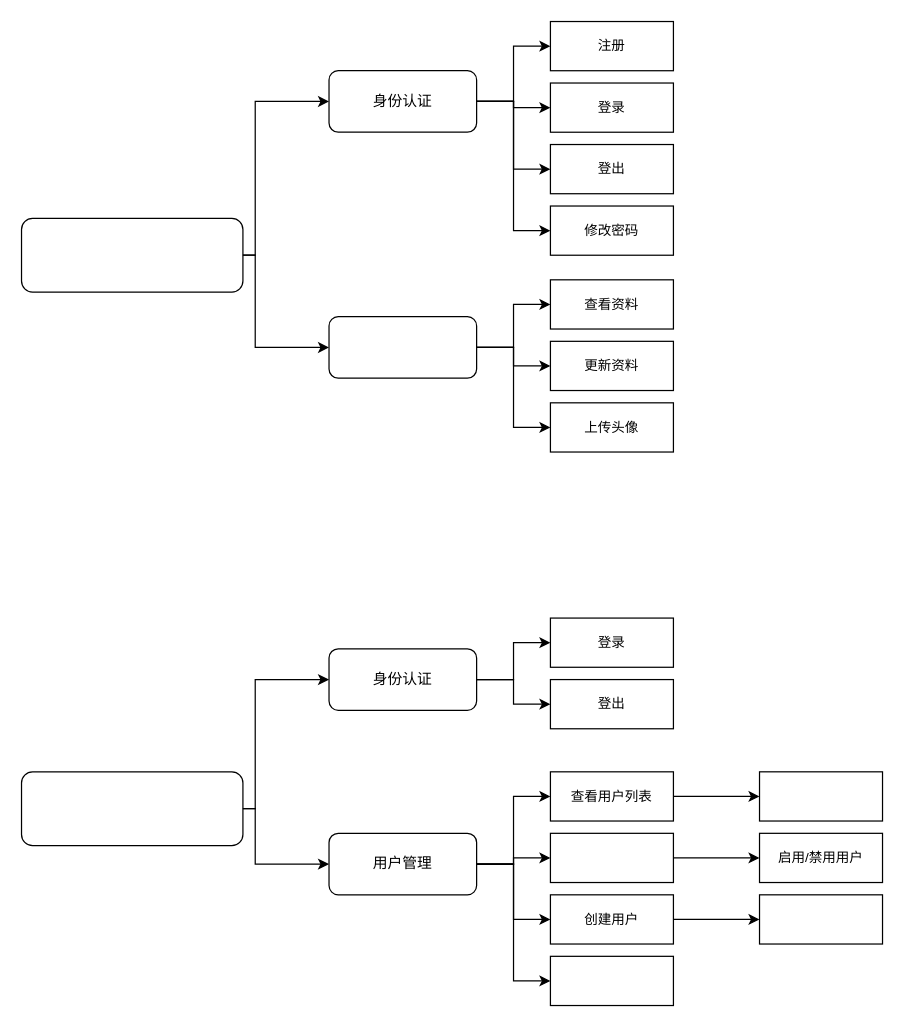
Image size: 904x1027. Some labels were removed from this diagram. Each missing label, with the centre of its shape:
"个人资料管理" goes at (402,346).
"删除用户" goes at (820,796).
"更新用户" goes at (611,980).
"查看用户详情" goes at (611,857).
"用户 (User/Host)" goes at (131,254).
"管理员 (Admin)" goes at (131,808).
"重置密码" goes at (820,919).
